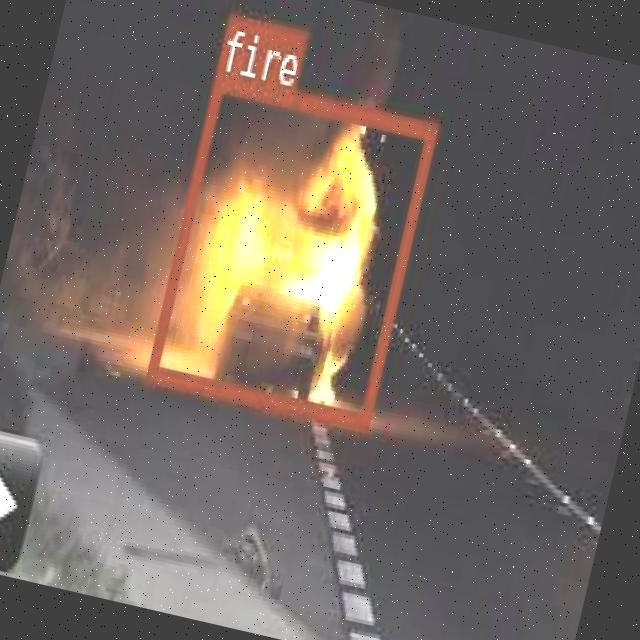fire: (145, 69, 436, 426)
